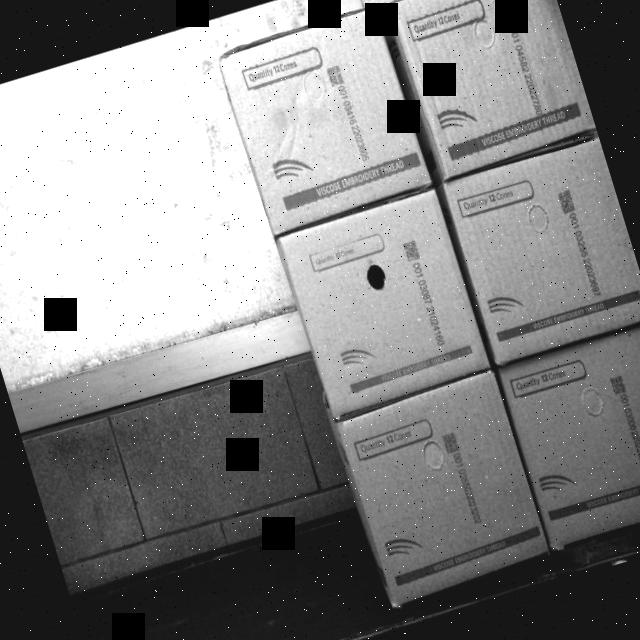box: (330, 368, 556, 610), (211, 2, 435, 238), (276, 186, 493, 420), (444, 136, 640, 365), (386, 0, 595, 184), (498, 322, 640, 561)
